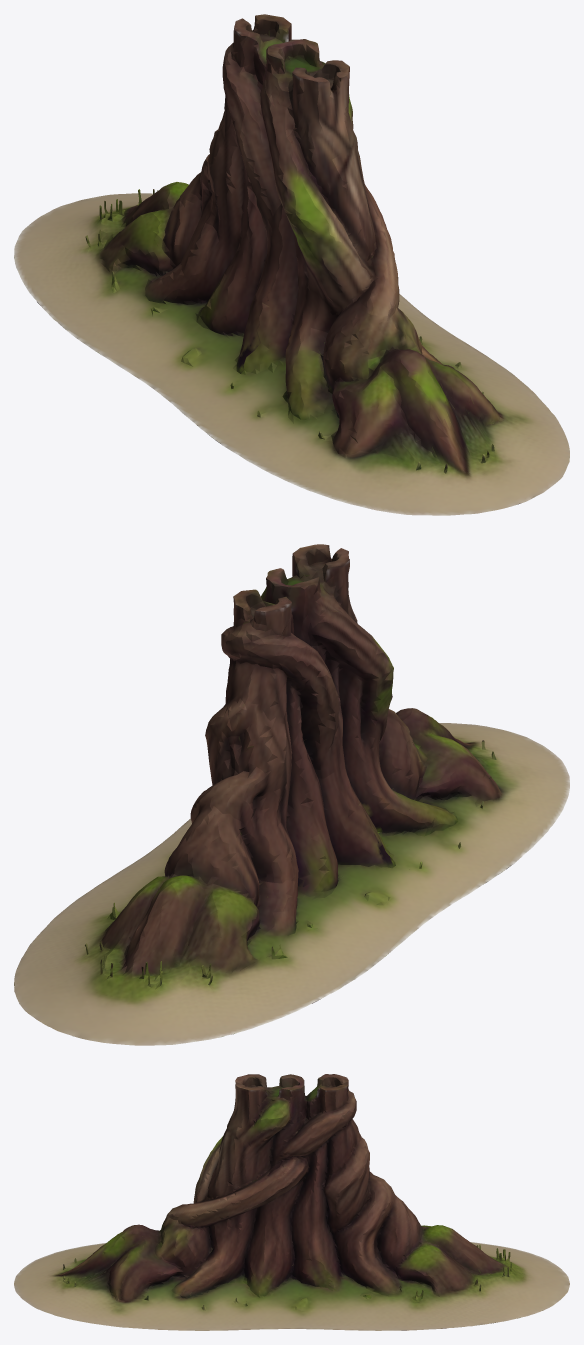
File: rodin_rootspire_raw.glb
The picture shows the model from 3 angles, top to bottom: view 1: azimuth 30°, elevation 25°; view 2: azimuth 150°, elevation 25°; view 3: azimuth 270°, elevation 25°; orthographic projection. The views are drawn at different scales.
Parts seen in each view (by area): view 1: model; view 2: model; view 3: model.
Boxes of the visible parts, box(x1,y1,x2,y2) form: model: box(14, 14, 569, 515); model: box(14, 544, 569, 1045); model: box(14, 1074, 569, 1330).
Bounding box in the file's own units: 0.7552 × 0.7612 × 1.9.
Materials: 1 (1 with a texture image).
